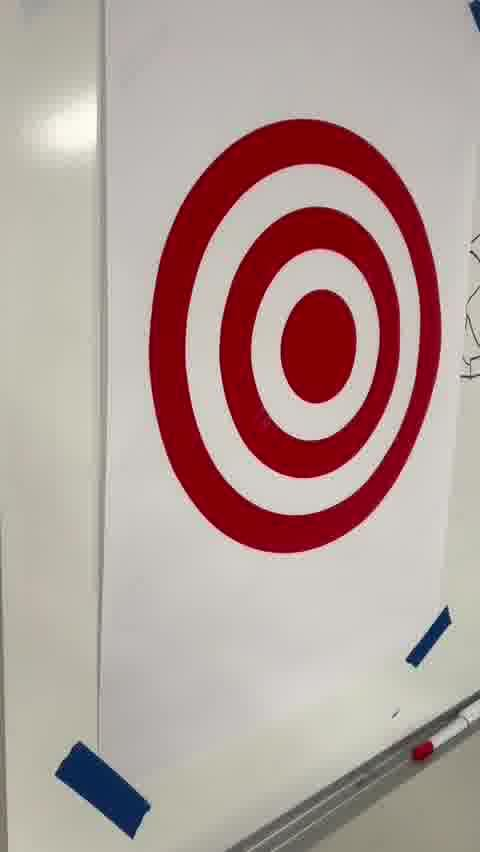target_red: (150, 120, 441, 552)
